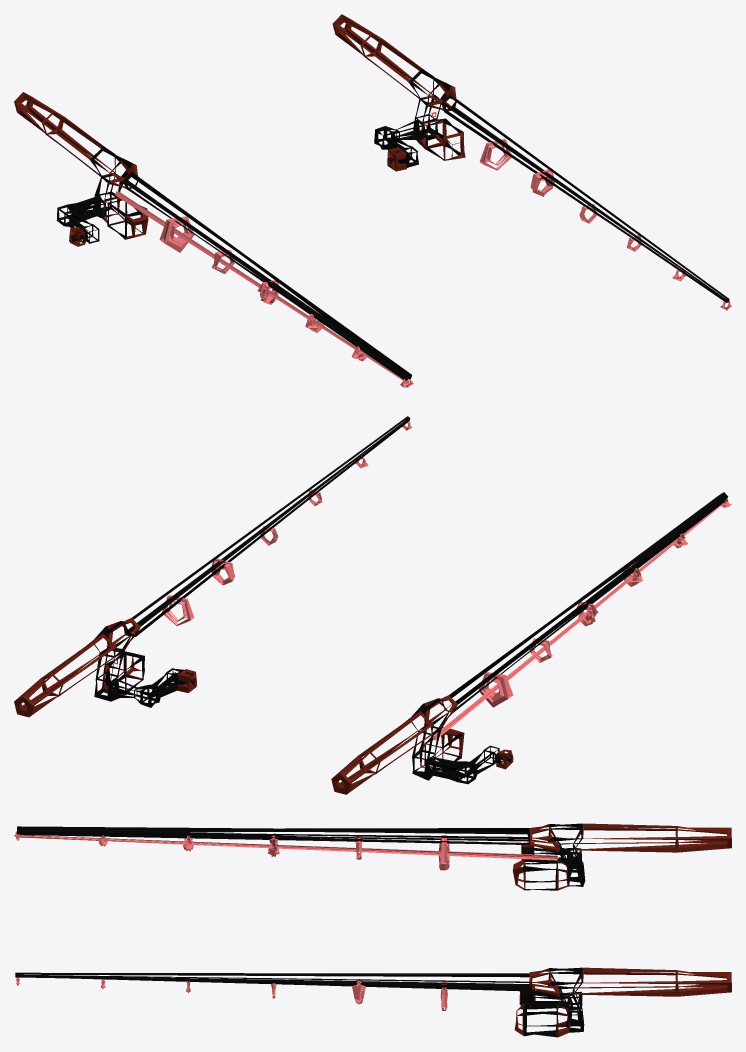
Rendered from CurseRod_Rod.fbx.
The picture shows the model from 3 angles, top to bottom: view 1: azimuth 30°, elevation 25°; view 2: azimuth 150°, elevation 25°; view 3: azimuth 270°, elevation 25°; orthographic projection. The views are drawn at different scales.
Visible parts, largest first — view 1: CurseRod, CurseRod_Rod, CurseRod_Reel, CurseRod_Handle, Spinner; view 2: CurseRod, CurseRod_Rod, CurseRod_Reel, CurseRod_Handle, Spinner; view 3: CurseRod, CurseRod_Rod, CurseRod_Handle, CurseRod_Reel, Spinner.
Boxes of the visible parts, x1,y1,x2,y2 form: CurseRod: (14,92,413,387); CurseRod_Rod: (441,95,731,310); CurseRod_Reel: (374,94,465,171); CurseRod_Handle: (332,14,456,111); Spinner: (56,196,106,246); CurseRod: (331,492,731,794); CurseRod_Rod: (123,416,411,636); CurseRod_Reel: (94,647,196,707); CurseRod_Handle: (14,617,140,717); Spinner: (424,745,513,784); CurseRod: (14,823,731,890); CurseRod_Rod: (15,972,532,1010); CurseRod_Handle: (529,967,731,996); CurseRod_Reel: (514,986,584,1037); Spinner: (521,842,581,878).
Size of the model in its own units: 2.49 by 0.4183 by 4.21.
